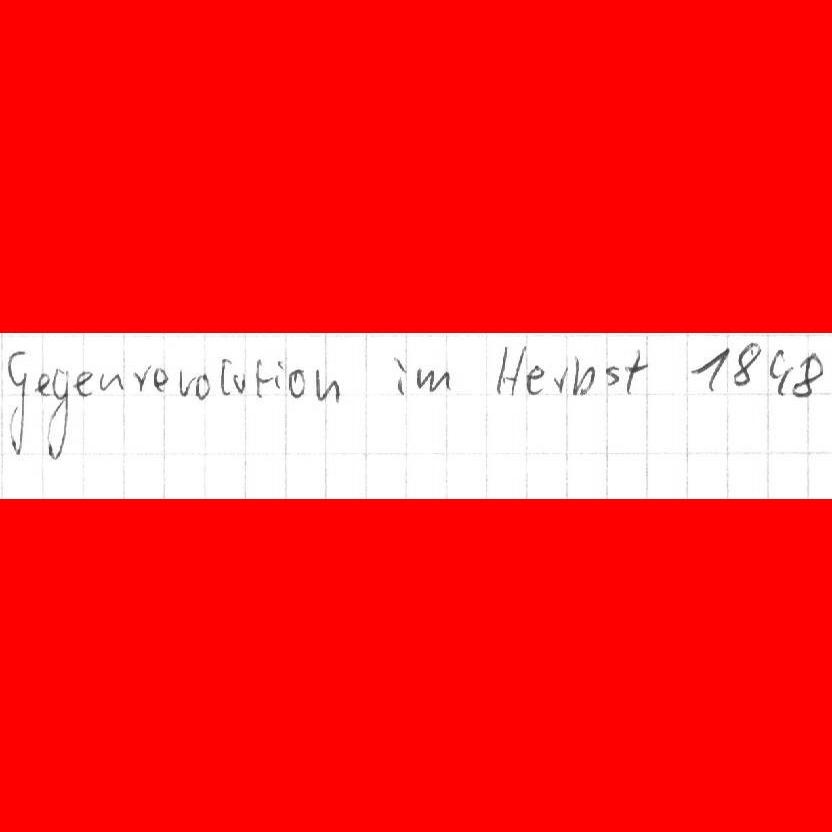Char: (4, 351, 30, 456), (46, 367, 70, 461), (690, 347, 729, 394), (494, 342, 523, 400), (731, 339, 761, 389), (793, 350, 822, 398), (623, 343, 647, 396), (769, 345, 792, 398), (314, 364, 340, 407), (572, 356, 595, 397), (417, 367, 450, 394), (551, 356, 570, 396), (524, 363, 545, 396), (393, 354, 409, 396), (99, 370, 127, 394), (252, 358, 269, 396), (287, 364, 305, 399), (74, 368, 94, 398), (189, 372, 210, 400), (177, 366, 195, 398), (31, 371, 53, 397), (218, 359, 234, 394), (132, 367, 152, 393), (605, 363, 623, 389), (152, 367, 170, 393), (273, 357, 286, 392), (234, 368, 247, 394)
